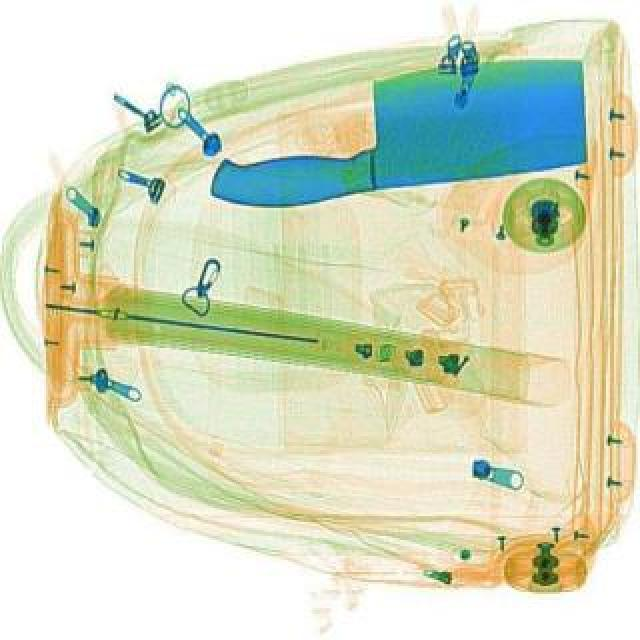knife: (198, 48, 606, 214)
